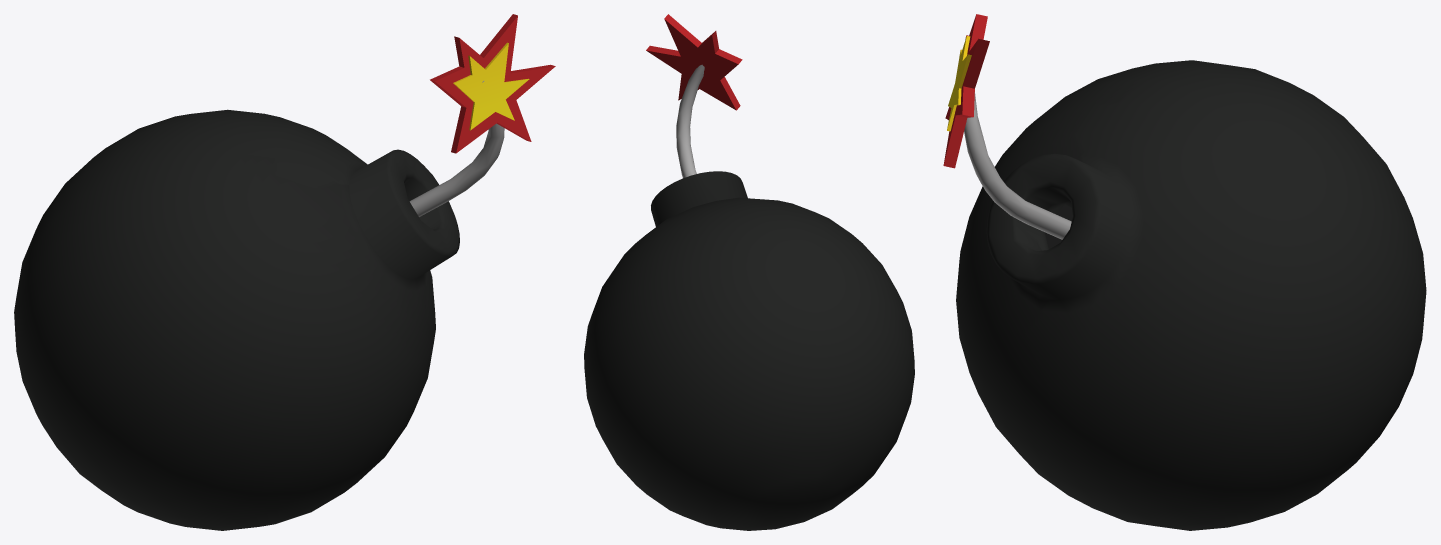
Rendered from bomb.fbx.
3 renders of one model, left to right at view 1: azimuth 30°, elevation 25°; view 2: azimuth 150°, elevation 25°; view 3: azimuth 270°, elevation 25°, orthographic. The views are drawn at different scales.
Visible parts, largest first — view 1: Plane.004_Bomb_0; view 2: Plane.004_Bomb_0; view 3: Plane.004_Bomb_0.
Boxes of the visible parts, box(x1,y1,x2,y2) form: Plane.004_Bomb_0: box(14, 14, 555, 530); Plane.004_Bomb_0: box(584, 14, 914, 530); Plane.004_Bomb_0: box(943, 14, 1426, 530).
Size of the model in its own units: 206 by 248 by 188.
1 material, 1 textured.
